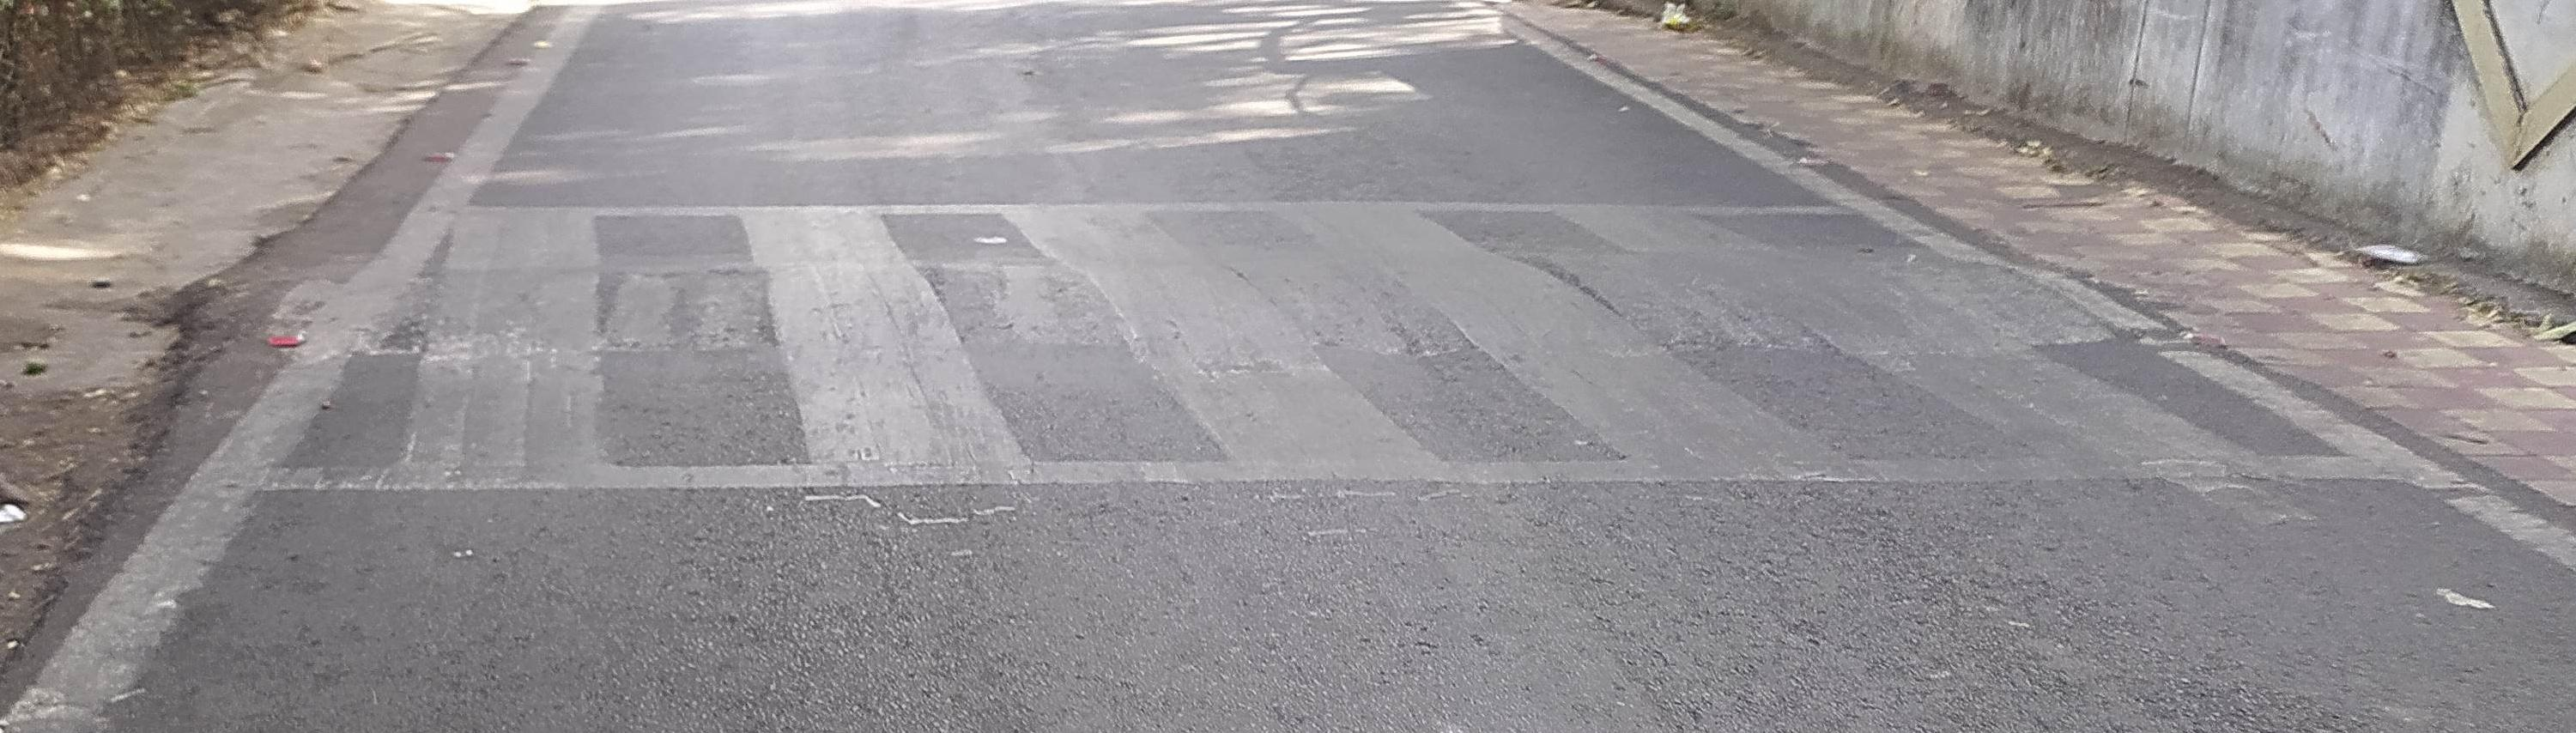speed-bump: (220, 175, 2394, 478)
